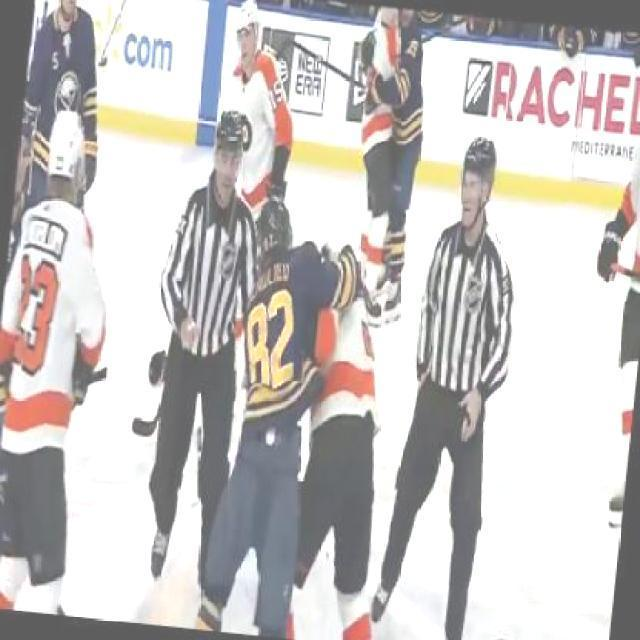fight: (211, 192, 406, 638)
